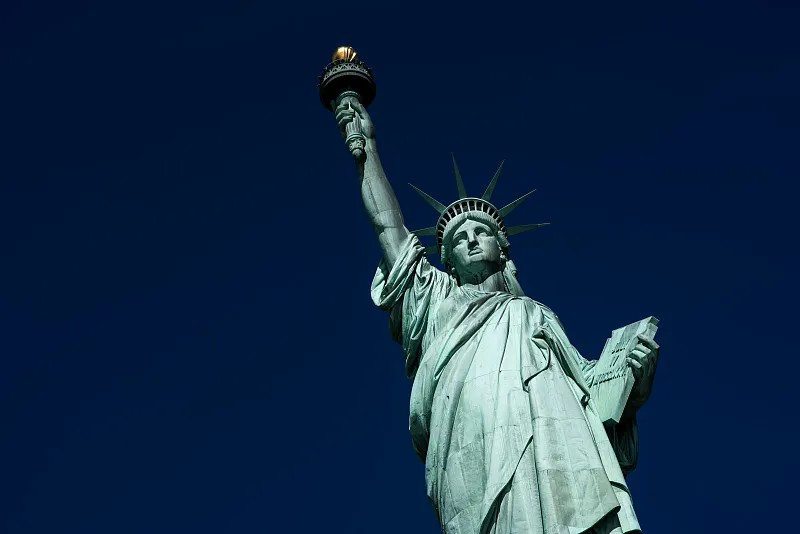SL: (317, 46, 661, 534)
